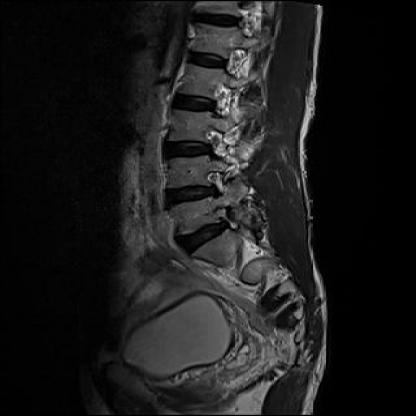Disc Bulgerotation: (171, 217, 242, 247)
